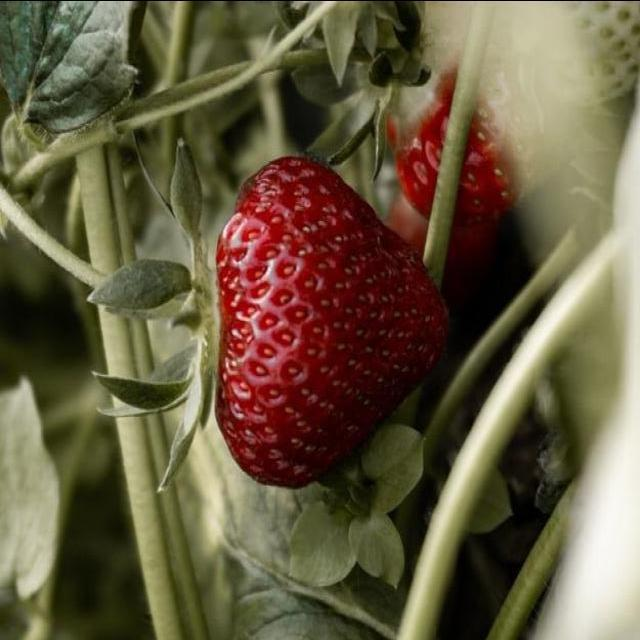strawberry: (213, 155, 452, 488)
